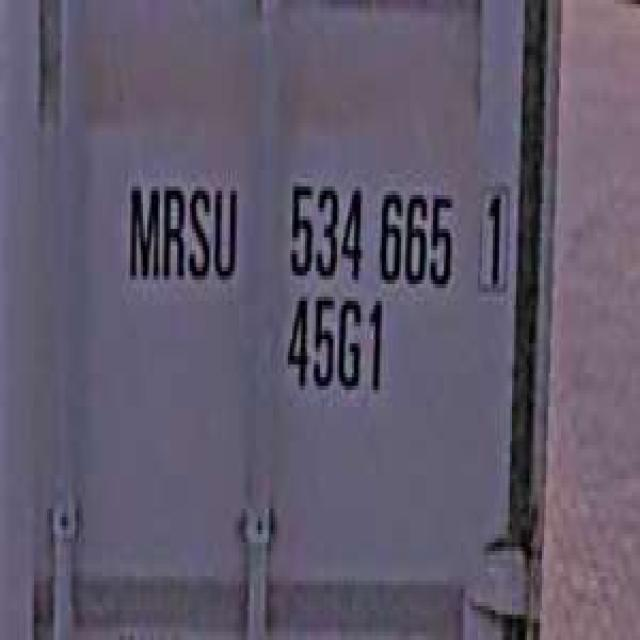dv: (474, 174, 512, 301)
owner: (120, 165, 243, 297)
serial: (282, 161, 456, 293)
size: (280, 288, 388, 403)
